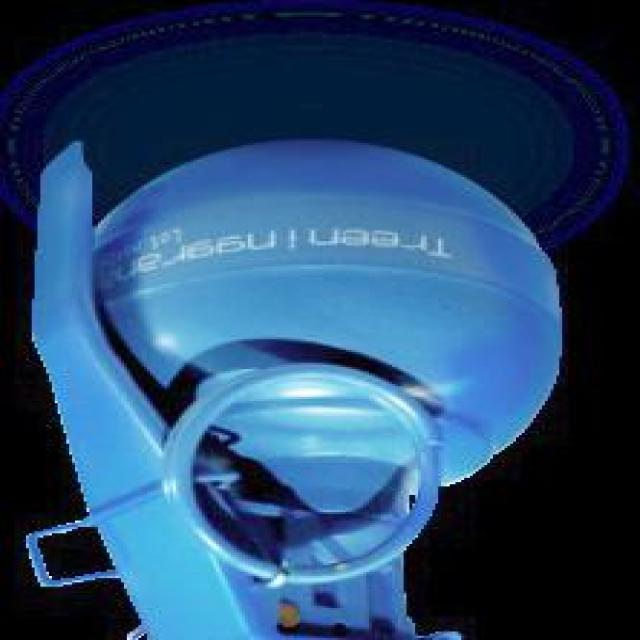grenade: (24, 140, 566, 640)
